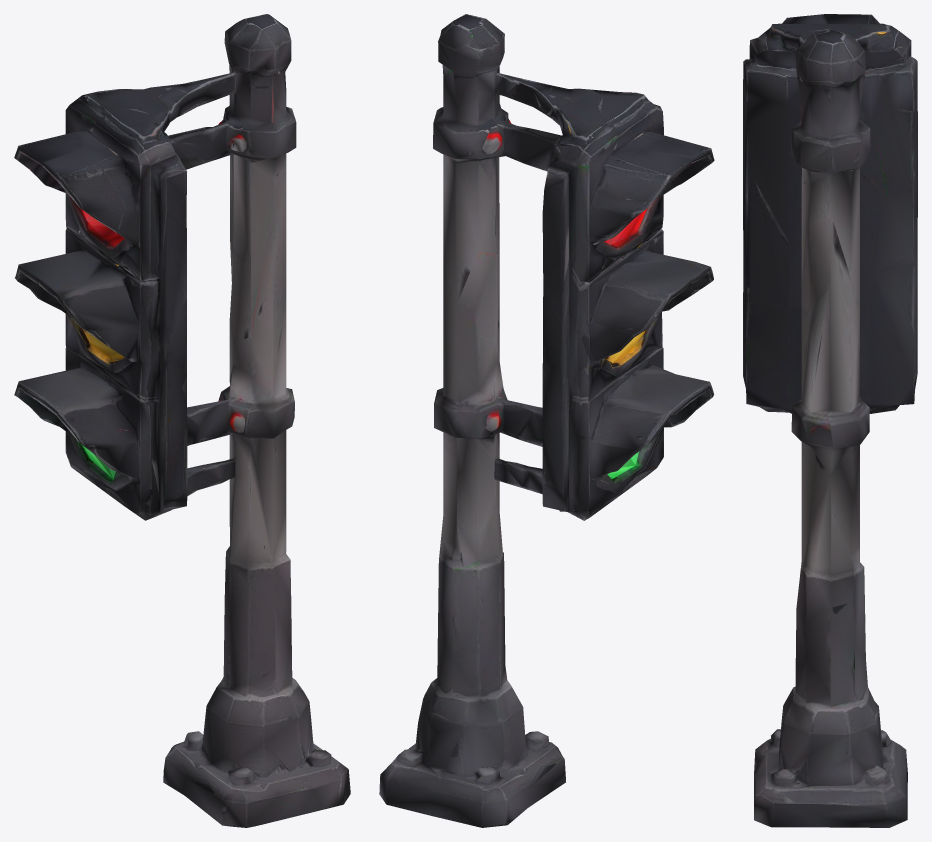
Rendered from semaforo.opt.glb.
3 views of the same model, side by side, from view 1: azimuth 30°, elevation 25°; view 2: azimuth 150°, elevation 25°; view 3: azimuth 270°, elevation 25° (orthographic).
Parts seen in each view (by area): view 1: Mesh_0; view 2: Mesh_0; view 3: Mesh_0.
Part boxes in pixels (x1=…): Mesh_0: x1=14, y1=14, x2=350, y2=827; Mesh_0: x1=379, y1=14, x2=714, y2=827; Mesh_0: x1=743, y1=14, x2=917, y2=827.
Bounding box in the file's own units: 0.7346 × 1.9 × 0.3952.
Materials: 1 (1 with a texture image).
